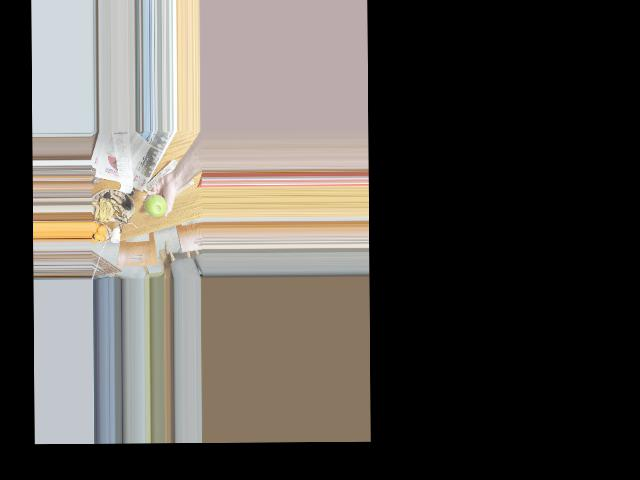apple: (143, 192, 167, 220)
